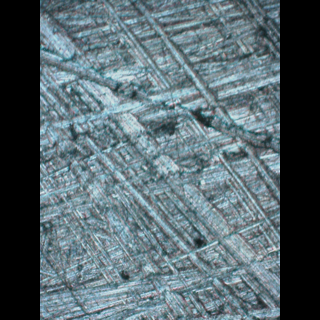d: (44, 0, 280, 268)
